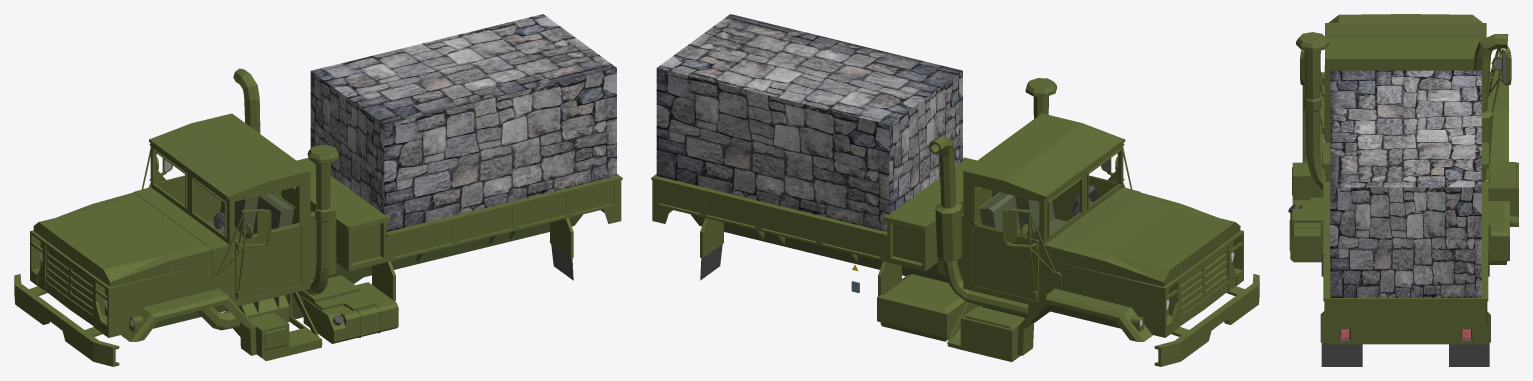
3 views of the same model, side by side, from view 1: azimuth 30°, elevation 25°; view 2: azimuth 150°, elevation 25°; view 3: azimuth 270°, elevation 25° (orthographic). The views are drawn at different scales.
Parts seen in each view (by area): view 1: Main, Box; view 2: Main, Box; view 3: Box, Main.
Part boxes in pixels (left/top/right/bottom): Main: left=14, top=68, right=622, bottom=366; Box: left=310, top=14, right=616, bottom=231; Main: left=651, top=78, right=1259, bottom=366; Box: left=656, top=14, right=962, bottom=231; Box: left=1330, top=70, right=1481, bottom=297; Main: left=1288, top=14, right=1518, bottom=366.
Bounding box in the file's own units: 7.24 × 2.69 × 2.67.
11 materials, 1 textured.
